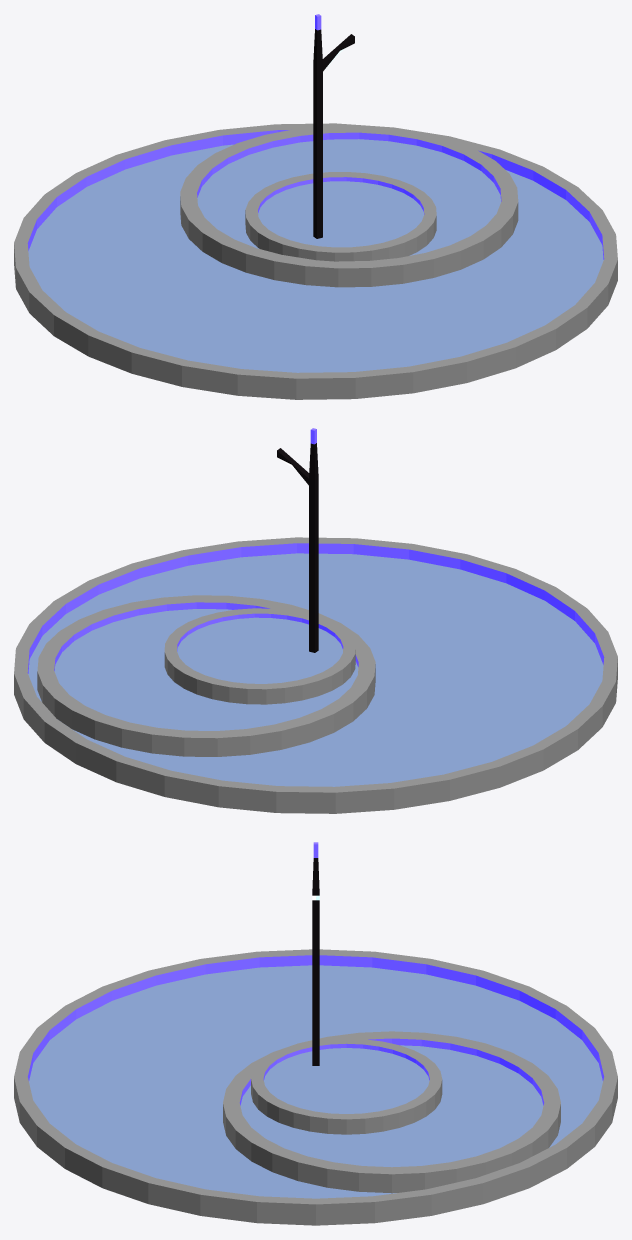
The model's file is assets.glb.
3 renders of one model, top to bottom at view 1: azimuth 30°, elevation 25°; view 2: azimuth 150°, elevation 25°; view 3: azimuth 270°, elevation 25°, orthographic.
Parts seen in each view (by area): view 1: fontaine, lampadaire_mat; view 2: fontaine, lampadaire_mat; view 3: fontaine, lampadaire_mat.
Boxes of the visible parts, box(x1,y1,x2,y2) form: fontaine: box(14, 123, 617, 399); lampadaire_mat: box(313, 14, 354, 238); fontaine: box(14, 537, 617, 813); lampadaire_mat: box(277, 428, 318, 652); fontaine: box(14, 949, 617, 1225); lampadaire_mat: box(312, 842, 319, 1065).
Bounding box in the file's own units: 15 × 7.1 × 15.
